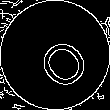O_NW: (22, 22, 88, 88)
